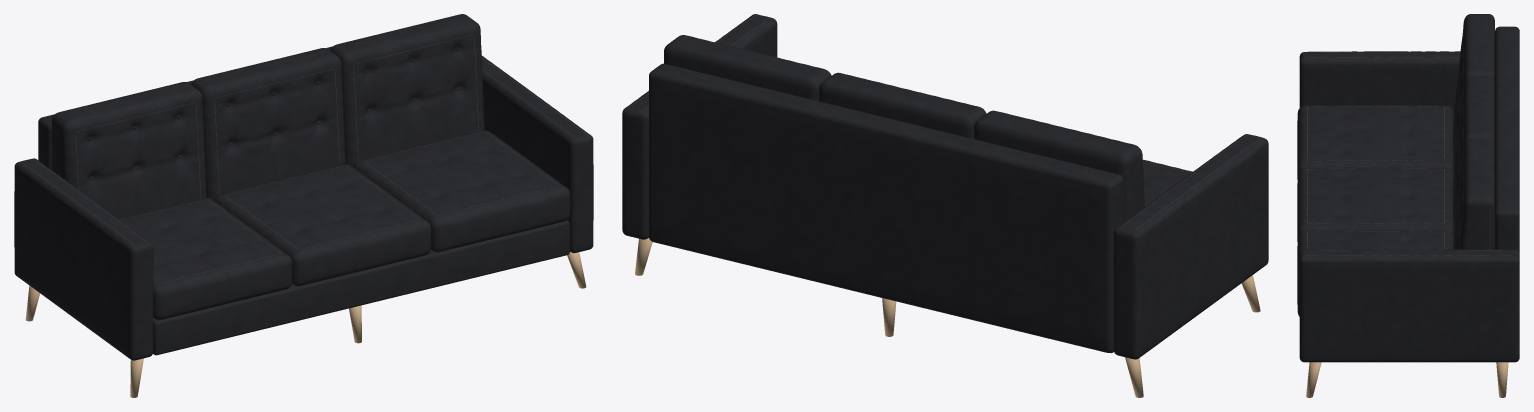
Rendered from canape-cuir.glb.
The picture shows the model from 3 angles, left to right: view 1: azimuth 30°, elevation 25°; view 2: azimuth 150°, elevation 25°; view 3: azimuth 270°, elevation 25°; orthographic projection. The views are drawn at different scales.
Parts seen in each view (by area): view 1: CanapeF_Cuir, CanapeF_Bois, CanapeF_Fil; view 2: CanapeF_Cuir, CanapeF_Bois; view 3: CanapeF_Cuir, CanapeF_Bois, CanapeF_Fil.
Part boxes in pixels (x1,y1,x2,y2): CanapeF_Cuir: (14,14,593,360); CanapeF_Bois: (25,252,586,397); CanapeF_Fil: (22,35,585,283); CanapeF_Cuir: (622,14,1268,359); CanapeF_Bois: (635,238,1260,397); CanapeF_Cuir: (1297,14,1519,362); CanapeF_Bois: (1306,362,1508,397); CanapeF_Fil: (1306,31,1511,255).
Bounding box in the file's own units: 2 × 0.85 × 0.8999.
Materials: 3 (1 with a texture image).
